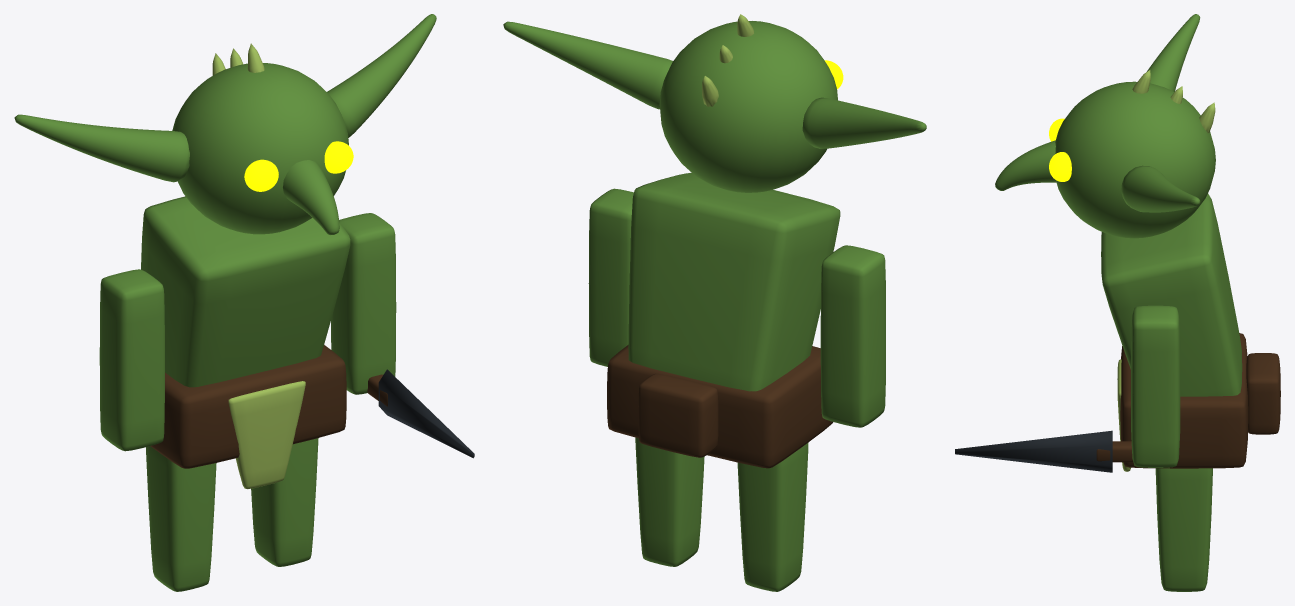
File: goblin.glb
3 views of the same model, side by side, from view 1: azimuth 30°, elevation 25°; view 2: azimuth 150°, elevation 25°; view 3: azimuth 270°, elevation 25° (orthographic). The views are drawn at different scales.
Visible parts, largest first — view 1: Body, Head, LeftArm, RightArm, LeftLeg, RightLeg, Weapon; view 2: Body, Head, LeftArm, LeftLeg, RightLeg, RightArm, Tail; view 3: Head, Body, RightArm, RightLeg, Weapon, Tail.
Boxes of the visible parts, x1=… form: Body: x1=141, y1=196, x2=350, y2=489; Head: x1=14, y1=14, x2=436, y2=235; LeftArm: x1=99, y1=269, x2=164, y2=451; RightArm: x1=331, y1=213, x2=396, y2=394; LeftLeg: x1=146, y1=446, x2=216, y2=591; RightLeg: x1=251, y1=438, x2=318, y2=566; Weapon: x1=367, y1=369, x2=474, y2=458; Body: x1=607, y1=172, x2=840, y2=468; Head: x1=503, y1=14, x2=926, y2=192; LeftArm: x1=820, y1=245, x2=885, y2=427; LeftLeg: x1=737, y1=442, x2=808, y2=591; RightLeg: x1=635, y1=437, x2=704, y2=566; RightArm: x1=588, y1=188, x2=633, y2=366; Tail: x1=638, y1=373, x2=718, y2=457; Head: x1=995, y1=14, x2=1215, y2=238; Body: x1=1101, y1=193, x2=1248, y2=471; RightArm: x1=1131, y1=305, x2=1180, y2=467; RightLeg: x1=1155, y1=468, x2=1212, y2=591; Weapon: x1=955, y1=430, x2=1133, y2=472; Tail: x1=1246, y1=353, x2=1280, y2=434.
Bounding box in the file's own units: 1.24 × 1.52 × 0.9095.
